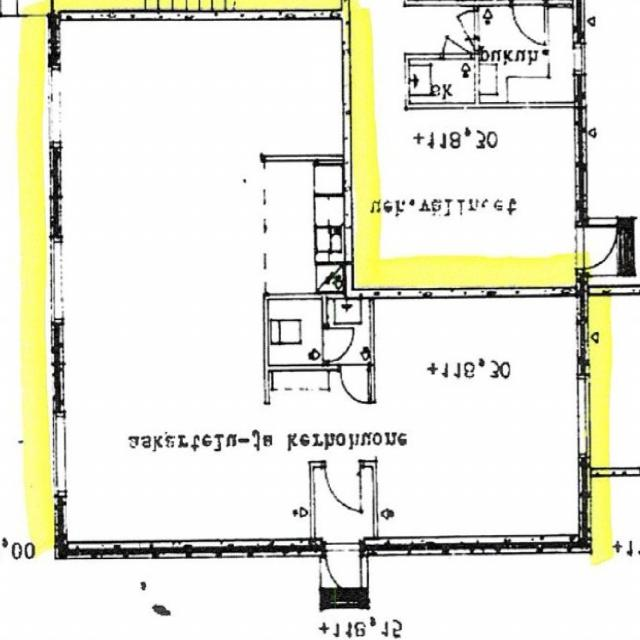door: (325, 539, 361, 598), (324, 461, 360, 509), (341, 365, 368, 403), (323, 328, 354, 360)
